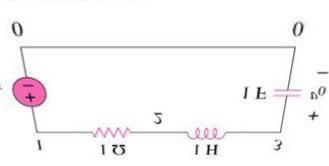inductor: (181, 122, 232, 142)
